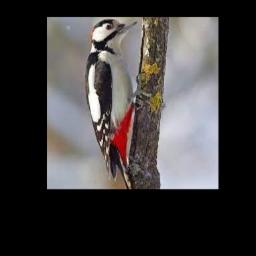Woodpecker: (84, 19, 147, 189)
